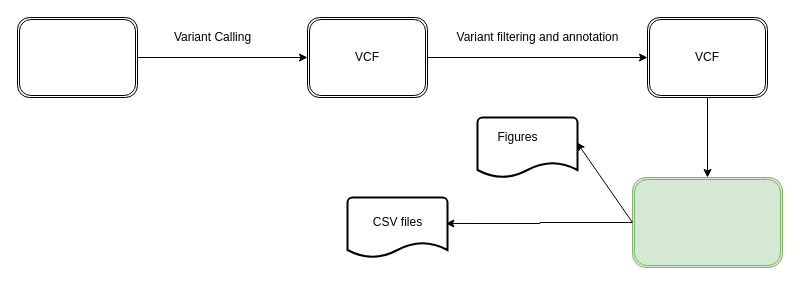
This 800x285 diagram has some shape labels left out. Each missing label, with the centre of its shape:
"BAM" goes at pixel 77 57.
"MetaMutationalSigs" goes at pixel 707 222.
